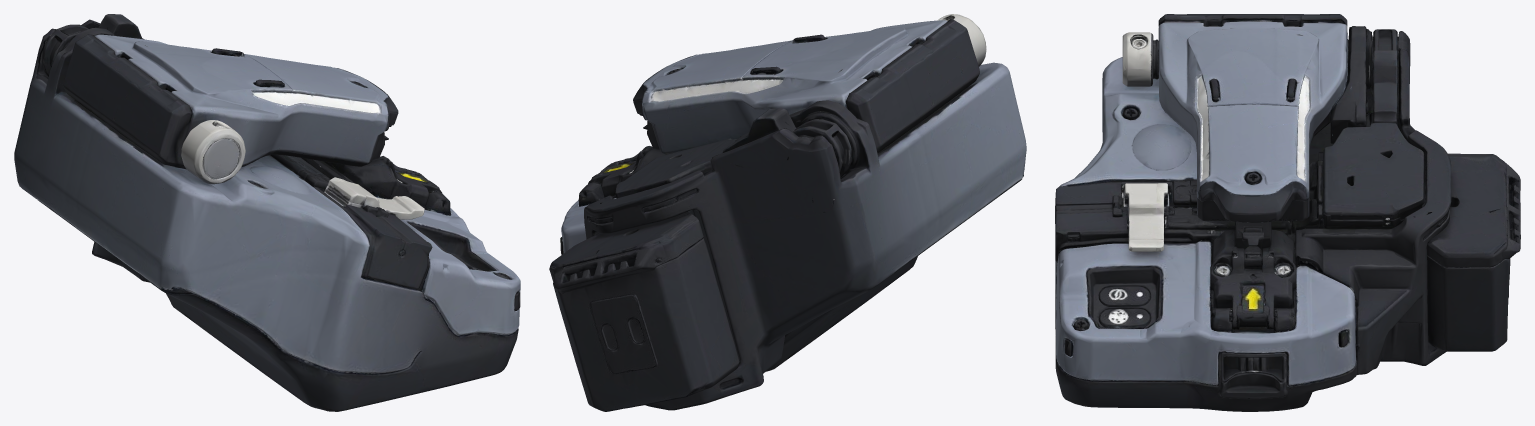
Rendered from ct50-verify.glb.
3 renders of one model, left to right at view 1: azimuth 30°, elevation 25°; view 2: azimuth 150°, elevation 25°; view 3: azimuth 270°, elevation 25°, orthographic. The views are drawn at different scales.
Parts seen in each view (by area): view 1: tripo_part_0, tripo_part_1, tripo_part_9, tripo_part_5, tripo_part_4, tripo_part_2, tripo_part_6; view 2: tripo_part_2, tripo_part_1, tripo_part_3, tripo_part_0, tripo_part_4, tripo_part_5, tripo_part_9; view 3: tripo_part_0, tripo_part_1, tripo_part_2, tripo_part_3, tripo_part_5, tripo_part_4, tripo_part_9, tripo_part_7, tripo_part_8.
Boxes of the visible parts, left/top/right/bottom form: tripo_part_0: left=23, top=92, right=520, bottom=411; tripo_part_1: left=62, top=34, right=398, bottom=169; tripo_part_9: left=181, top=120, right=245, bottom=184; tripo_part_5: left=324, top=156, right=451, bottom=215; tripo_part_4: left=41, top=14, right=143, bottom=117; tripo_part_2: left=14, top=19, right=149, bottom=282; tripo_part_6: left=270, top=154, right=323, bottom=174; tripo_part_2: left=584, top=128, right=893, bottom=410; tripo_part_1: left=633, top=19, right=979, bottom=154; tripo_part_3: left=549, top=211, right=739, bottom=411; tripo_part_0: left=560, top=62, right=1026, bottom=371; tripo_part_4: left=722, top=100, right=883, bottom=193; tripo_part_5: left=578, top=146, right=665, bottom=206; tripo_part_9: left=937, top=14, right=986, bottom=66; tripo_part_0: left=1055, top=57, right=1425, bottom=411; tripo_part_1: left=1158, top=14, right=1348, bottom=249; tripo_part_2: left=1288, top=31, right=1451, bottom=374; tripo_part_3: left=1426, top=153, right=1520, bottom=351; tripo_part_5: left=1210, top=229, right=1296, bottom=332; tripo_part_4: left=1330, top=26, right=1398, bottom=143; tripo_part_9: left=1122, top=32, right=1158, bottom=86; tripo_part_7: left=1164, top=213, right=1291, bottom=235; tripo_part_8: left=1164, top=179, right=1196, bottom=215.
Bounding box in the file's own units: 0.7895 × 0.6338 × 0.9793.
Materials: 11 (11 with a texture image).
